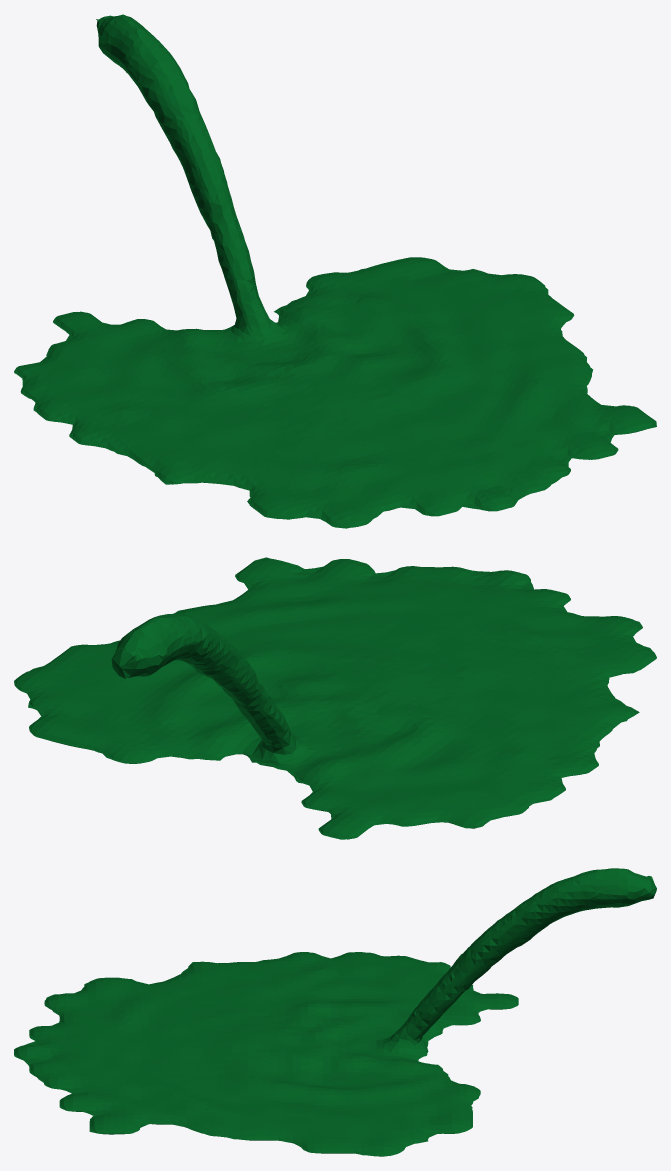
Rendered from fluid_16.fbx.
3 views of the same model, one above another, from view 1: azimuth 30°, elevation 25°; view 2: azimuth 150°, elevation 25°; view 3: azimuth 270°, elevation 25° (orthographic). The views are drawn at different scales.
Parts seen in each view (by area): view 1: Cube; view 2: Cube; view 3: Cube.
Part boxes in pixels (<box>): Cube: <box>14,14,656,528</box>; Cube: <box>14,557,656,839</box>; Cube: <box>14,868,656,1156</box>.
Size of the model in its own units: 417 by 177 by 556.
